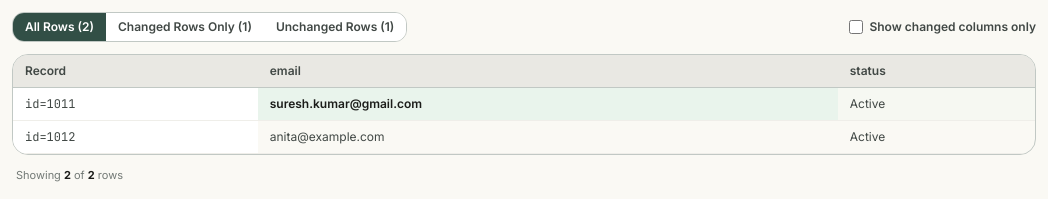
Test: ChangePreviewTable › shows changed columns only when that toggle is checked
Click the checkbox labelled "Show changed columns only" at (856, 27), box [849,20,863,34]
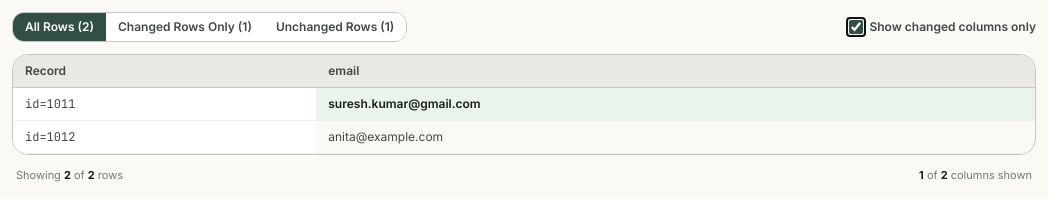
Expected: the column heading "email" is shown, [316,55,1035,88]
Expected: the column heading "status" is gone
